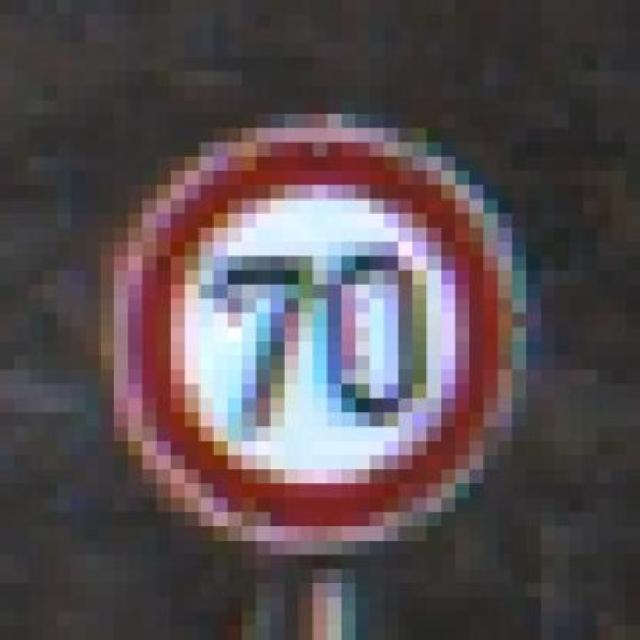forb_speed_over_70: (127, 134, 508, 538)
